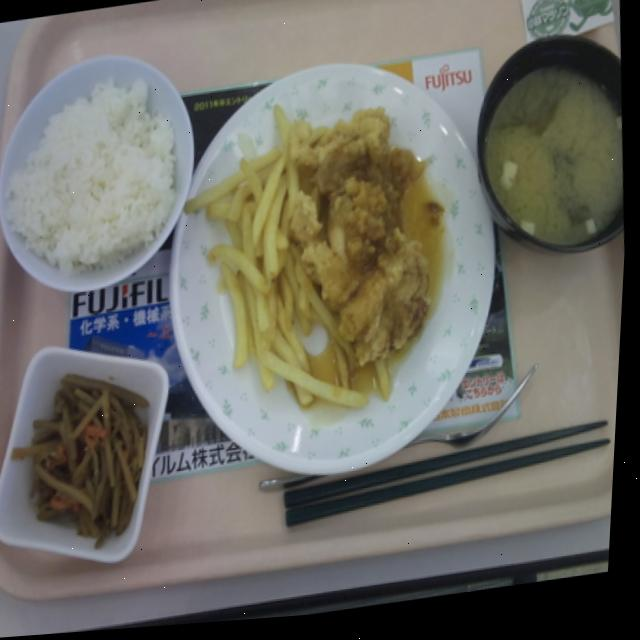炸货点心: (189, 96, 361, 446)
米饭主食: (0, 38, 217, 311)
